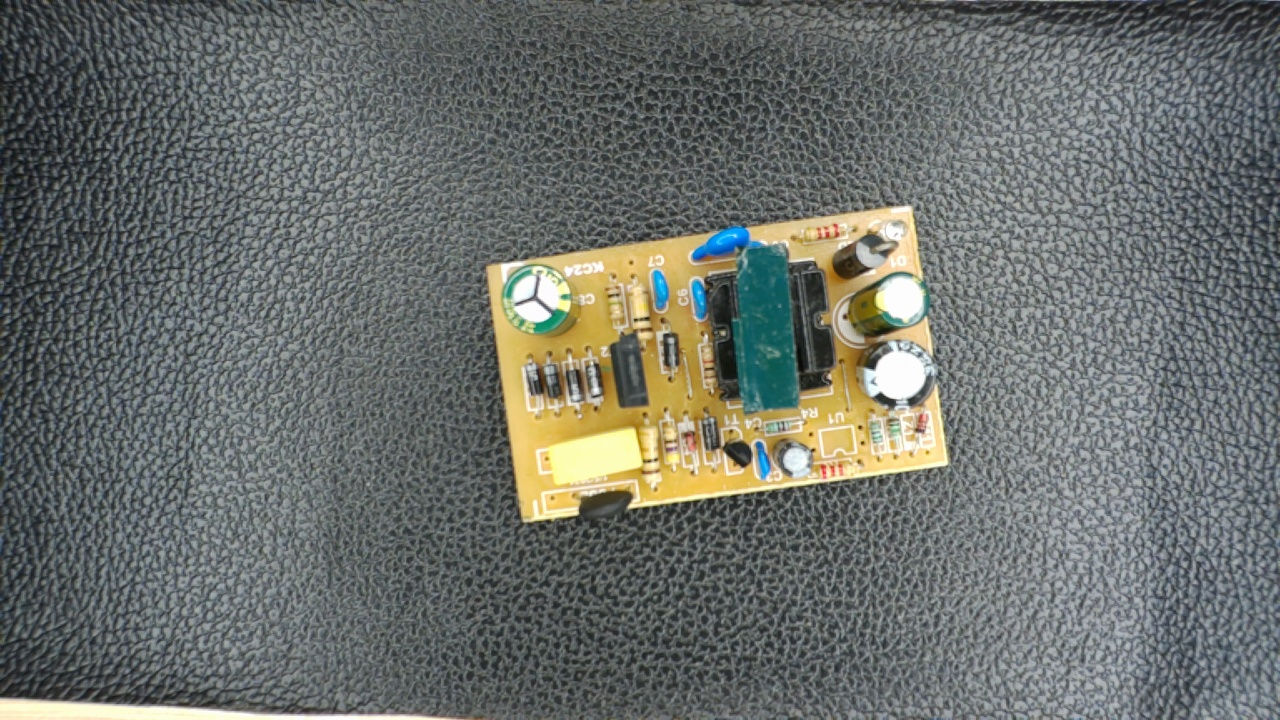fuse: (563, 480, 641, 519)
hv_capacitor: (494, 261, 584, 338)
mov: (680, 224, 776, 267)
